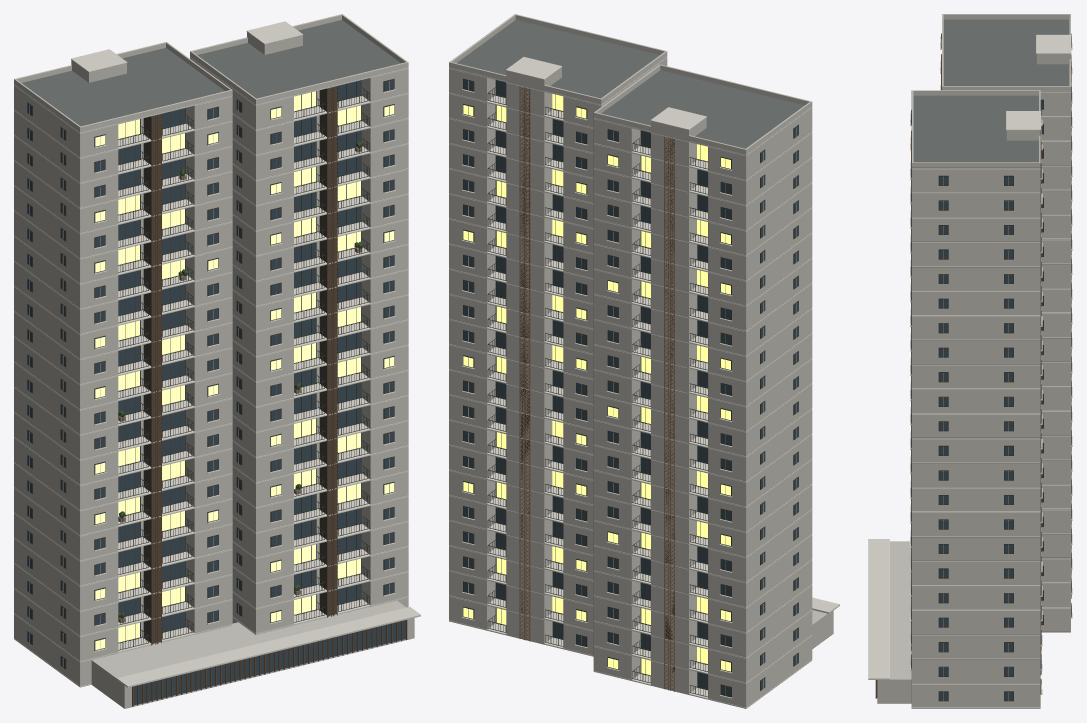
Rendered from castanheiras.glb.
3 views of the same model, side by side, from view 1: azimuth 30°, elevation 25°; view 2: azimuth 150°, elevation 25°; view 3: azimuth 270°, elevation 25° (orthographic). The views are drawn at different scales.
Parts seen in each view (by area): view 1: GEO-cobertura-portaria-cobertura, GEO-cobertura-portaria-reboco, GEO-cobertura-portaria-concreto, GEO-cobertura-portaria-vidro, GEO-T1-paredes-21-reboco, GEO-T1-paredes-04-reboco, GEO-T1-paredes-10-reboco, GEO-T1-paredes-03-reboco, GEO-T1-paredes-05-reboco, GEO-T1-paredes-06-reboco, GEO-T1-paredes-11-reboco, GEO-T1-paredes-14-reboco (+111 smaller); view 2: GEO-cobertura-portaria-reboco, GEO-cobertura-portaria-cobertura, GEO-cobertura-portaria-concreto, GEO-T1-paredes-03-reboco, GEO-T1-paredes-18-reboco, GEO-T1-paredes-17-reboco, GEO-T1-paredes-02-reboco, GEO-T1-paredes-11-reboco, GEO-T1-paredes-04-reboco, GEO-T1-paredes-05-reboco, GEO-T1-paredes-07-reboco, GEO-T1-paredes-08-reboco (+47 smaller); view 3: GEO-cobertura-portaria-cobertura, GEO-cobertura-portaria-reboco, GEO-cobertura-portaria-concreto, GEO-T2-paredes-03-reboco, GEO-T2-paredes-00-reboco, GEO-T2-paredes-09-reboco, GEO-T2-paredes-11-reboco, GEO-T2-paredes-05-reboco, GEO-T2-paredes-07-reboco, GEO-T2-paredes-14-reboco, GEO-T2-paredes-16-reboco, GEO-T2-paredes-18-reboco (+35 smaller).
Boxes of the visible parts, x1,y1,x2,y2 form: GEO-cobertura-portaria-cobertura: (22, 20, 400, 126); GEO-cobertura-portaria-reboco: (14, 14, 414, 708); GEO-cobertura-portaria-concreto: (71, 21, 420, 687); GEO-cobertura-portaria-vidro: (133, 620, 405, 705); GEO-T1-paredes-21-reboco: (14, 85, 232, 157); GEO-T1-paredes-04-reboco: (14, 513, 232, 585); GEO-T1-paredes-10-reboco: (14, 362, 232, 434); GEO-T1-paredes-03-reboco: (14, 539, 232, 610); GEO-T1-paredes-05-reboco: (14, 488, 232, 560); GEO-T1-paredes-06-reboco: (14, 463, 232, 535); GEO-T1-paredes-11-reboco: (14, 337, 232, 409); GEO-T1-paredes-14-reboco: (14, 262, 232, 333); GEO-cobertura-portaria-reboco: (449, 14, 833, 694); GEO-cobertura-portaria-cobertura: (457, 20, 804, 148); GEO-cobertura-portaria-concreto: (505, 57, 839, 670); GEO-T1-paredes-03-reboco: (593, 560, 812, 632); GEO-T1-paredes-18-reboco: (593, 183, 812, 255); GEO-T1-paredes-17-reboco: (593, 208, 812, 280); GEO-T1-paredes-02-reboco: (593, 585, 812, 657); GEO-T1-paredes-11-reboco: (593, 359, 812, 431); GEO-T1-paredes-04-reboco: (593, 535, 812, 606); GEO-T1-paredes-05-reboco: (593, 510, 812, 581); GEO-T1-paredes-07-reboco: (593, 460, 812, 531); GEO-T1-paredes-08-reboco: (593, 435, 812, 506); GEO-cobertura-portaria-cobertura: (913, 19, 1068, 162); GEO-cobertura-portaria-reboco: (877, 14, 1070, 703); GEO-cobertura-portaria-concreto: (868, 34, 1071, 679); GEO-T2-paredes-03-reboco: (911, 610, 1040, 634); GEO-T2-paredes-00-reboco: (911, 684, 1040, 707); GEO-T2-paredes-09-reboco: (911, 463, 1040, 486); GEO-T2-paredes-11-reboco: (911, 414, 1040, 437); GEO-T2-paredes-05-reboco: (911, 561, 1040, 584); GEO-T2-paredes-07-reboco: (911, 512, 1040, 535); GEO-T2-paredes-14-reboco: (911, 341, 1040, 364); GEO-T2-paredes-16-reboco: (911, 291, 1040, 314); GEO-T2-paredes-18-reboco: (911, 242, 1040, 265).
Size of the model in its own units: 41.25 by 70.9 by 23.75.
